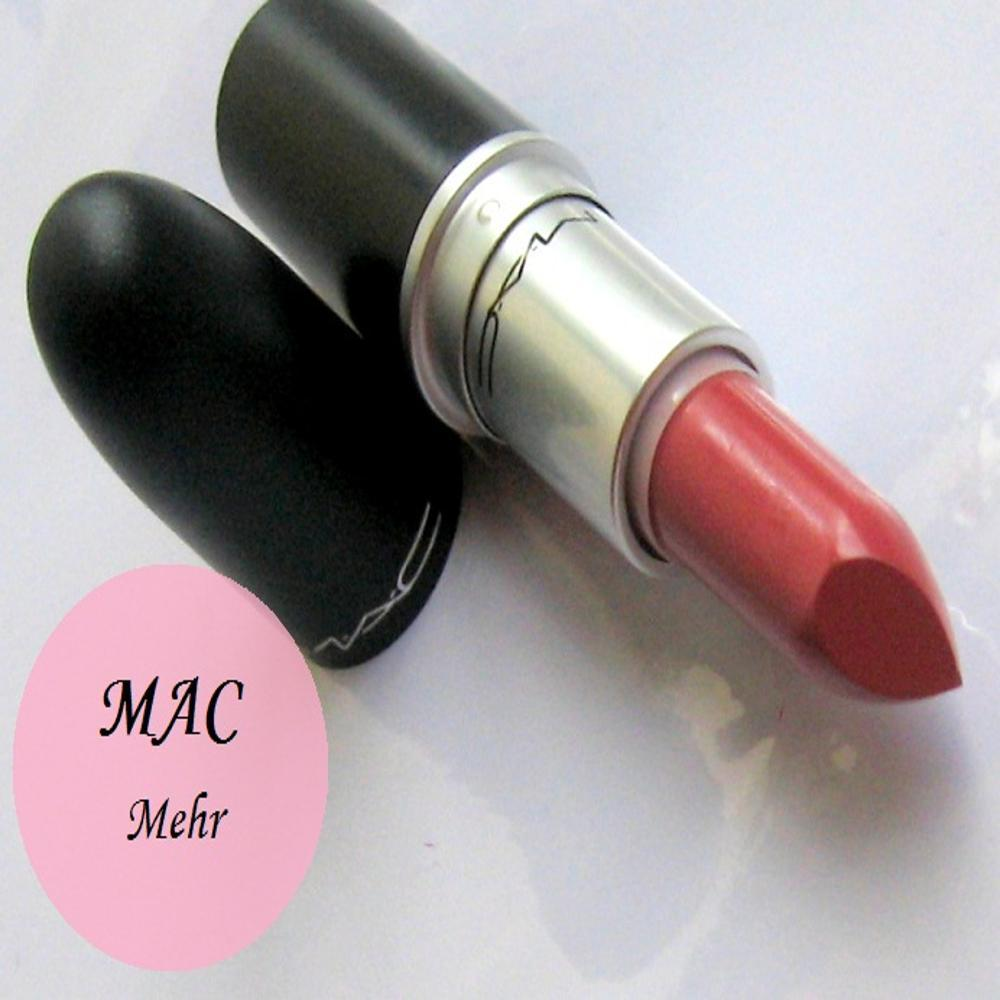lipstick: (208, 0, 985, 695)
